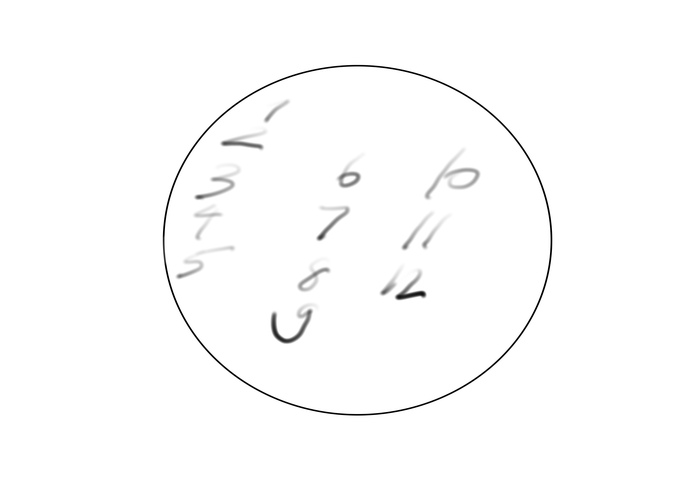eight: (300, 252, 335, 294)
eleven: (405, 202, 448, 252)
five: (178, 244, 239, 277)
four: (193, 200, 224, 240)
nine: (268, 297, 320, 345)
one: (266, 99, 292, 123)
seven: (315, 201, 354, 244)
six: (340, 146, 366, 190)
ten: (429, 141, 481, 197)
three: (201, 157, 242, 201)
twelve: (382, 259, 431, 305)
two: (229, 120, 271, 153)
